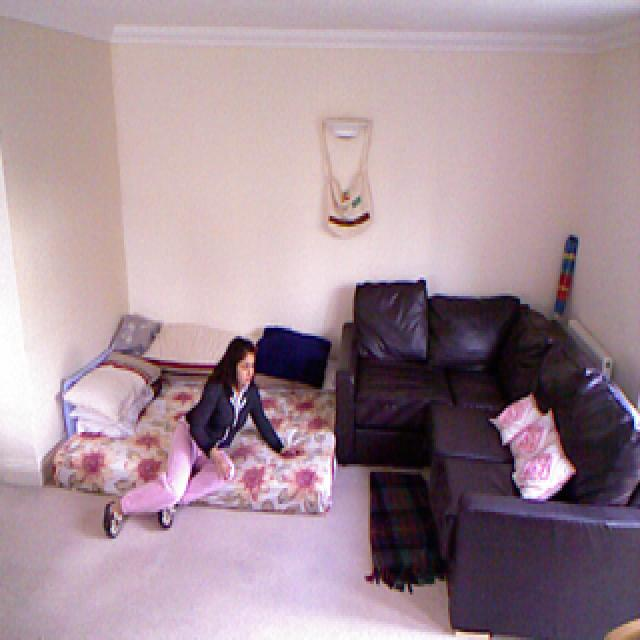sitting: (102, 338, 308, 539)
